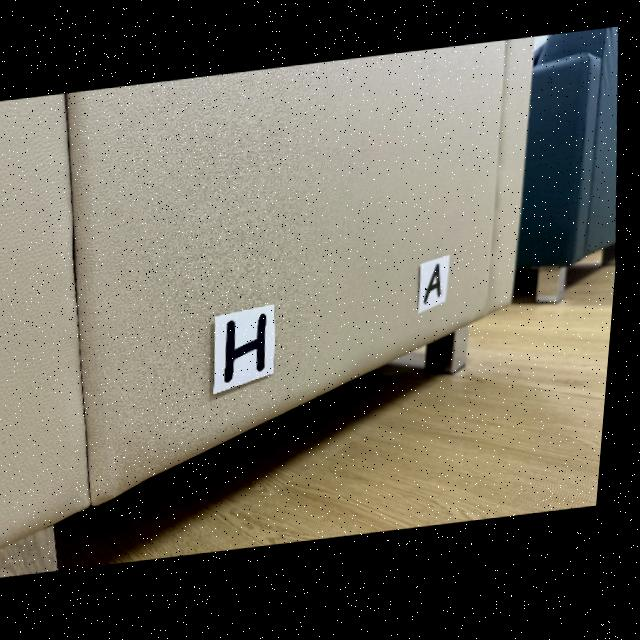A: (430, 269, 447, 308)
H: (231, 317, 272, 385)
